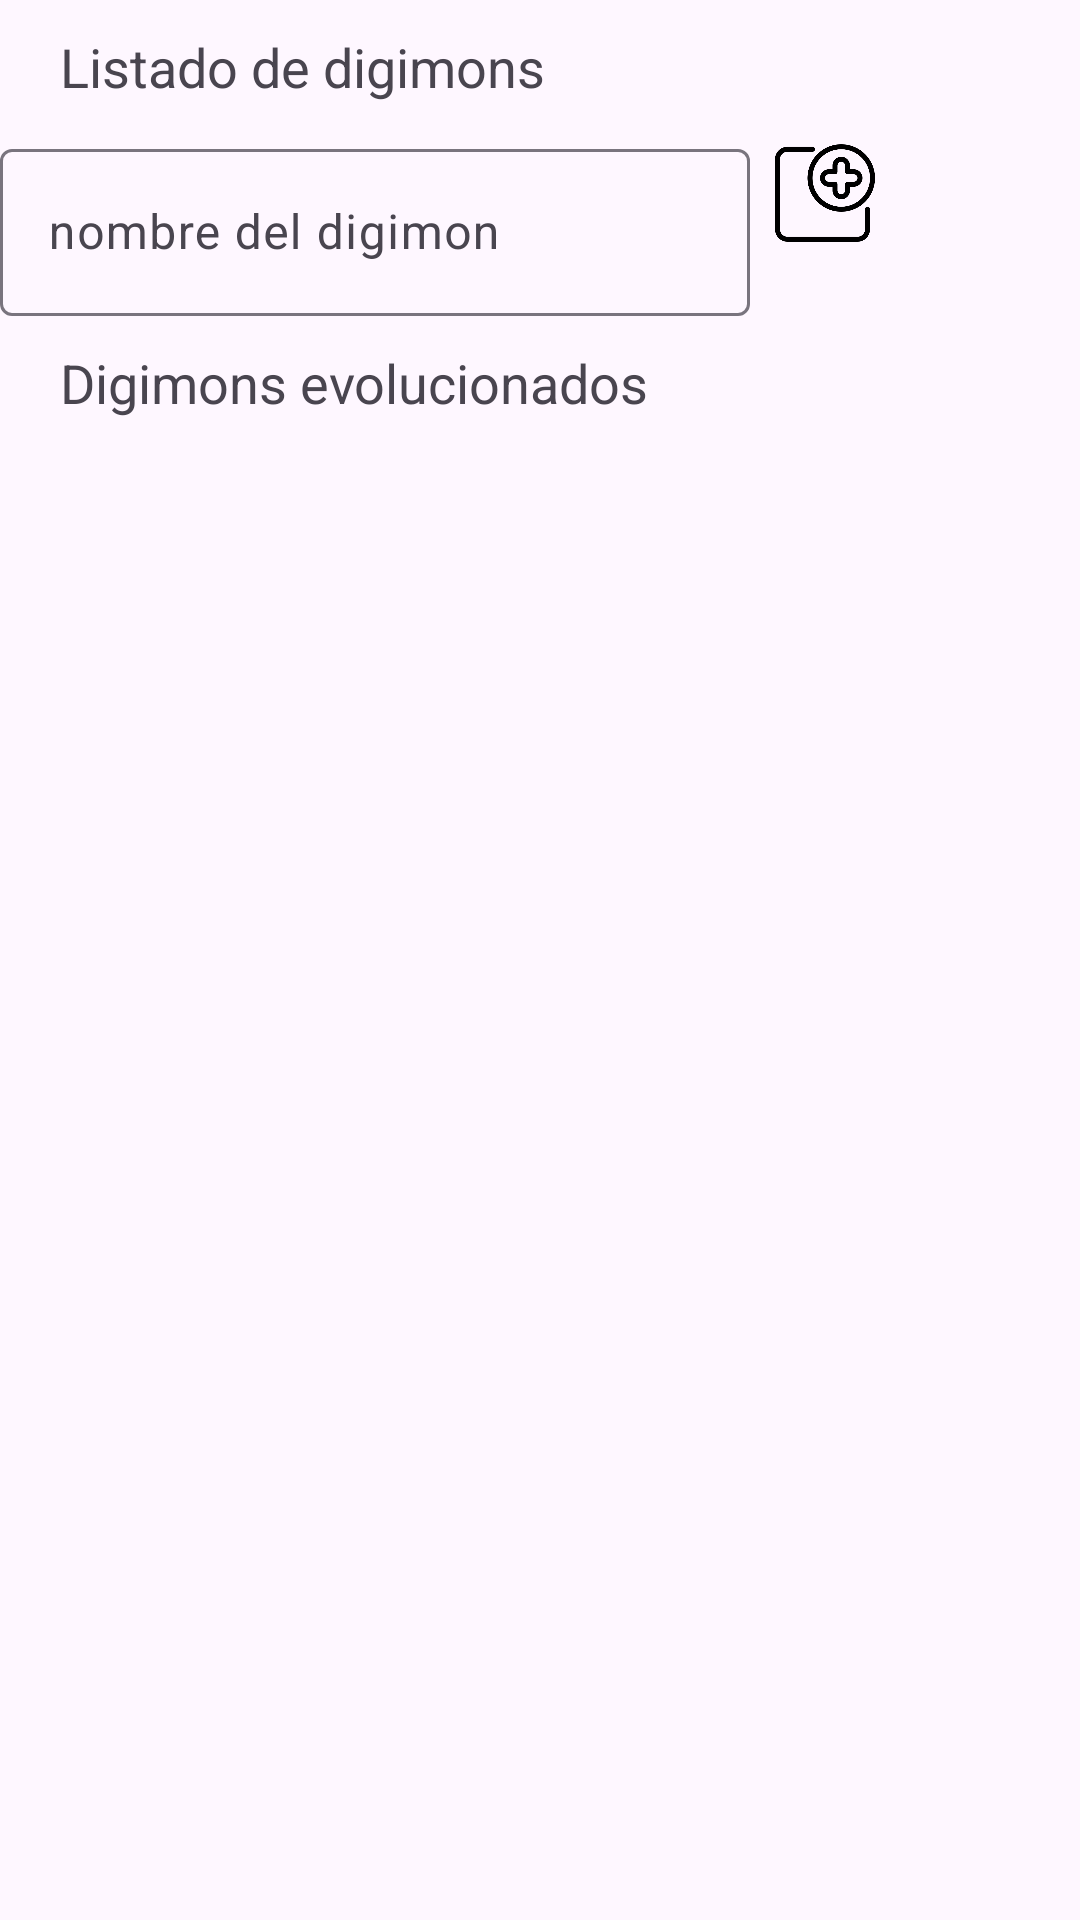

Named icons in this screenshot (1080px x 1920px) and their bounding boxes, Rect(x1, y1, x2, y2):
anadir: Rect(775, 144, 875, 242)
